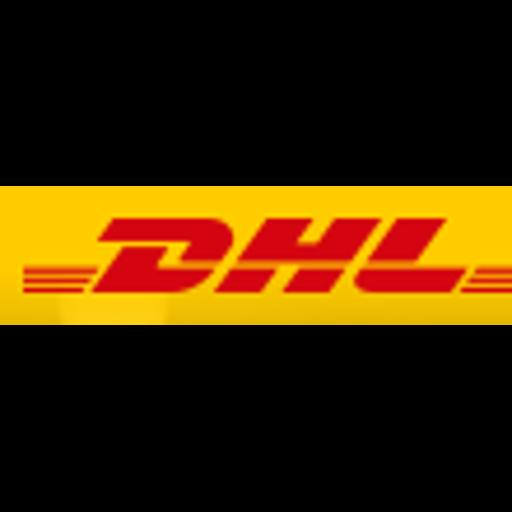DHL: (0, 186, 512, 325)
